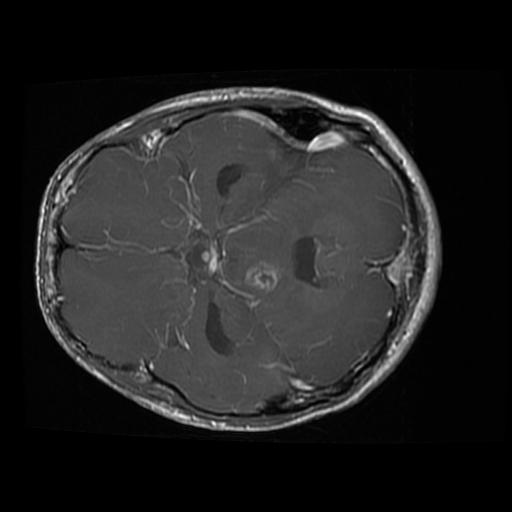glioma: (241, 258, 281, 294)
